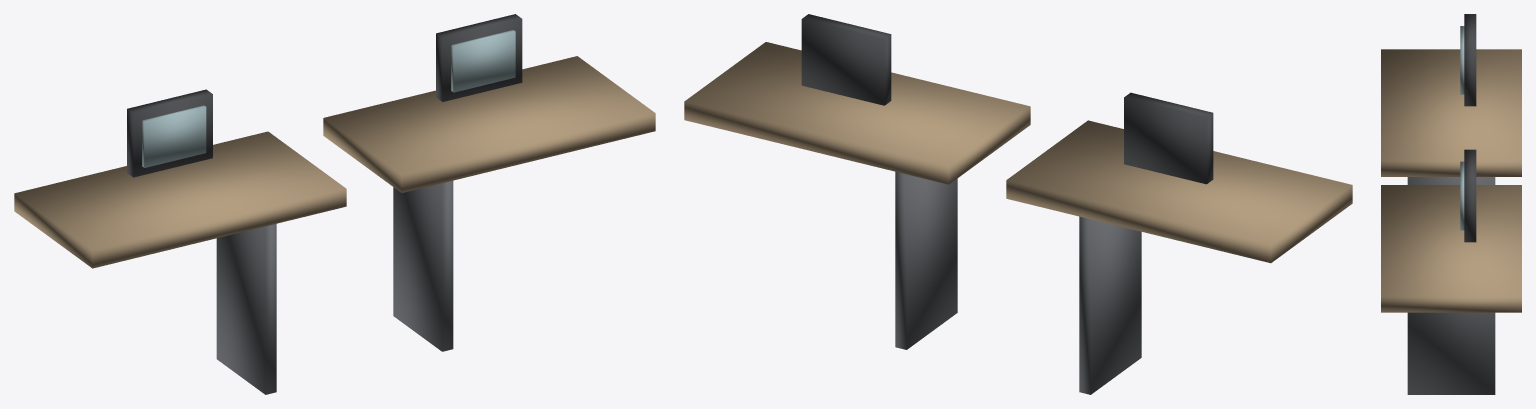
The model's file is newsroom_desk_cluster__compact.glb.
The picture shows the model from 3 angles, left to right: view 1: azimuth 30°, elevation 25°; view 2: azimuth 150°, elevation 25°; view 3: azimuth 270°, elevation 25°; orthographic projection. The views are drawn at different scales.
Parts seen in each view (by area): view 1: world; view 2: world; view 3: world.
Boxes of the visible parts, <box> form: world: <box>14,14,655,394</box>; world: <box>684,14,1352,394</box>; world: <box>1381,14,1521,394</box>.
Bounding box in the file's own units: 2.14 × 1.03 × 0.516.
